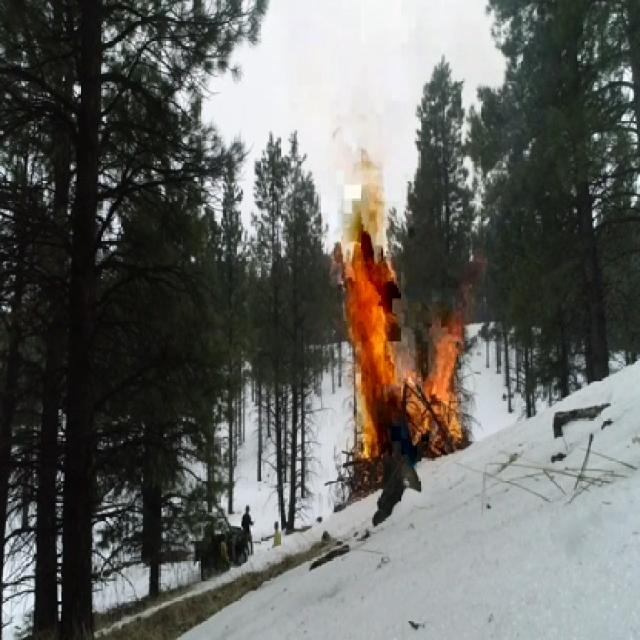Fire: (331, 144, 480, 464)
